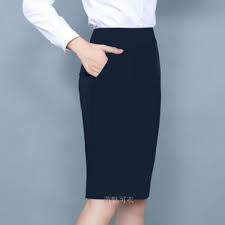F_tailored skirt: (73, 24, 164, 204)
